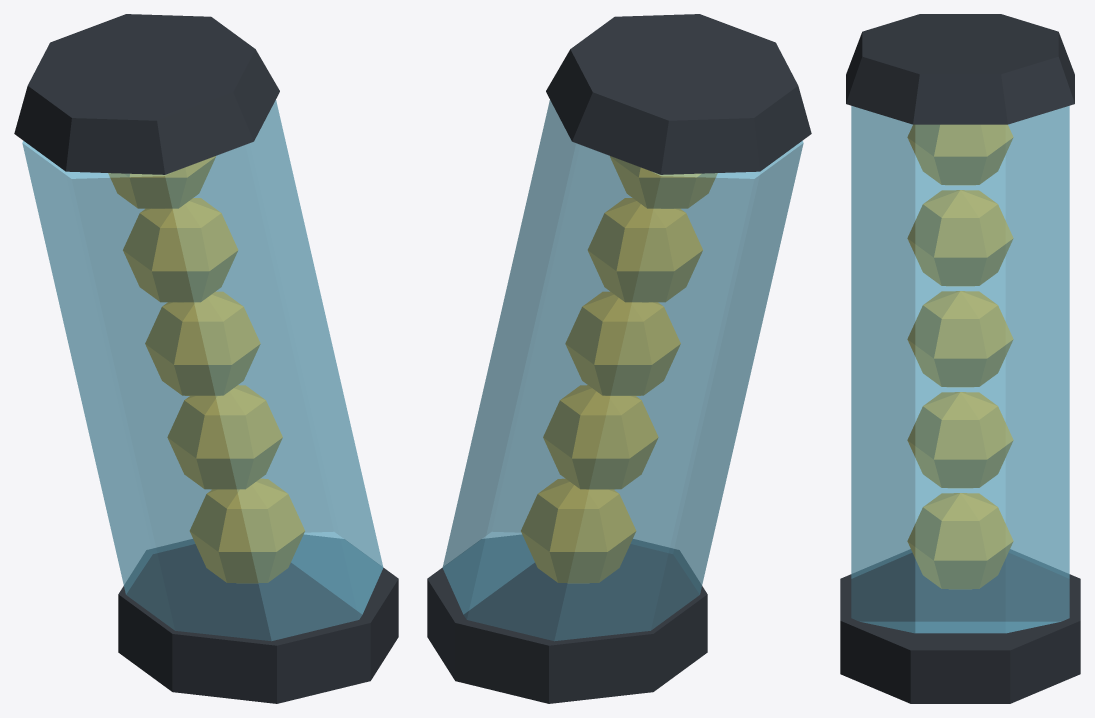
The model's file is hopper_pod.glb.
3 views of the same model, side by side, from view 1: azimuth 30°, elevation 25°; view 2: azimuth 150°, elevation 25°; view 3: azimuth 270°, elevation 25° (orthographic). The views are drawn at different scales.
Parts seen in each view (by area): view 1: hopper_pod; view 2: hopper_pod; view 3: hopper_pod.
Part boxes in pixels (bbox=[...]): hopper_pod: bbox=[14, 14, 398, 703]; hopper_pod: bbox=[427, 14, 811, 703]; hopper_pod: bbox=[840, 14, 1080, 703].
Bounding box in the file's own units: 0.0596 × 0.1061 × 0.0407.
